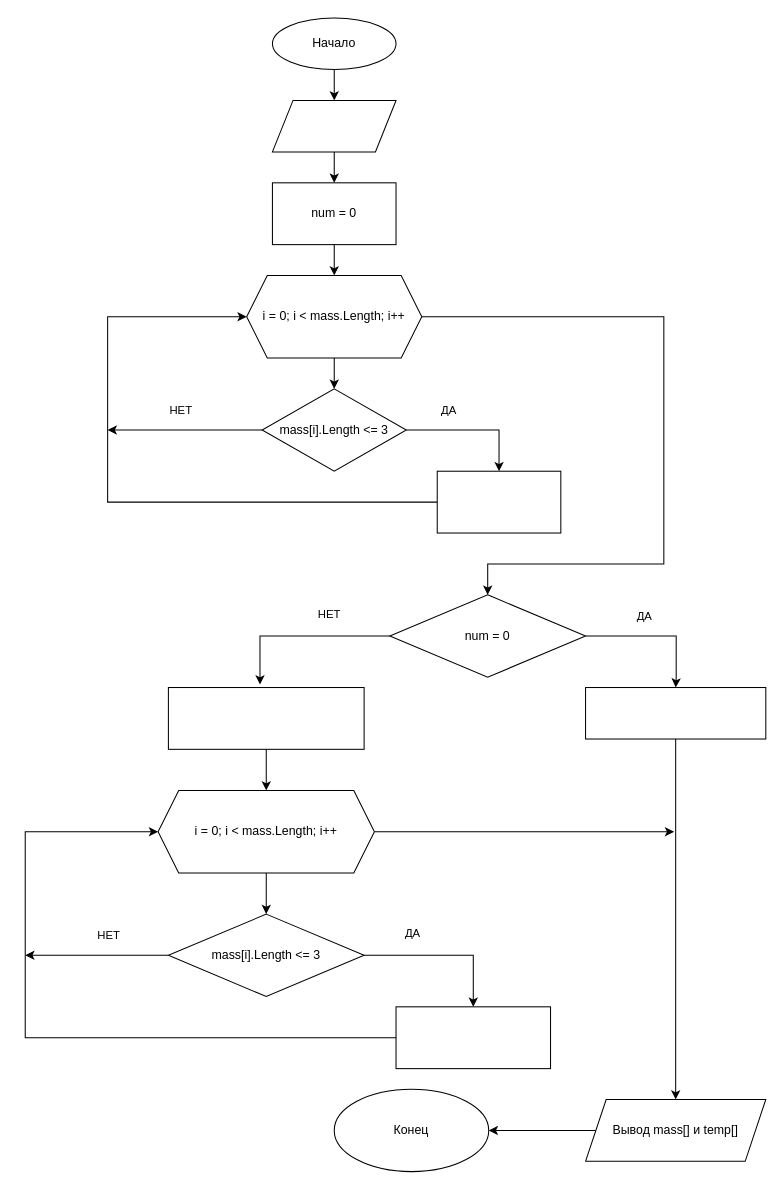
Image size: 784x1190. Some labels were removed from this diagram. The centre of each missing label's shape, as x and y in pixels:
"num ++" goes at [498,501].
"temp[0]" goes at [675,712].
"temp[j] = mass[i] j++" goes at [473,1037].
"temp[num] j = 0" goes at [265,717].
"Ввод mass[]" goes at [333,125].
